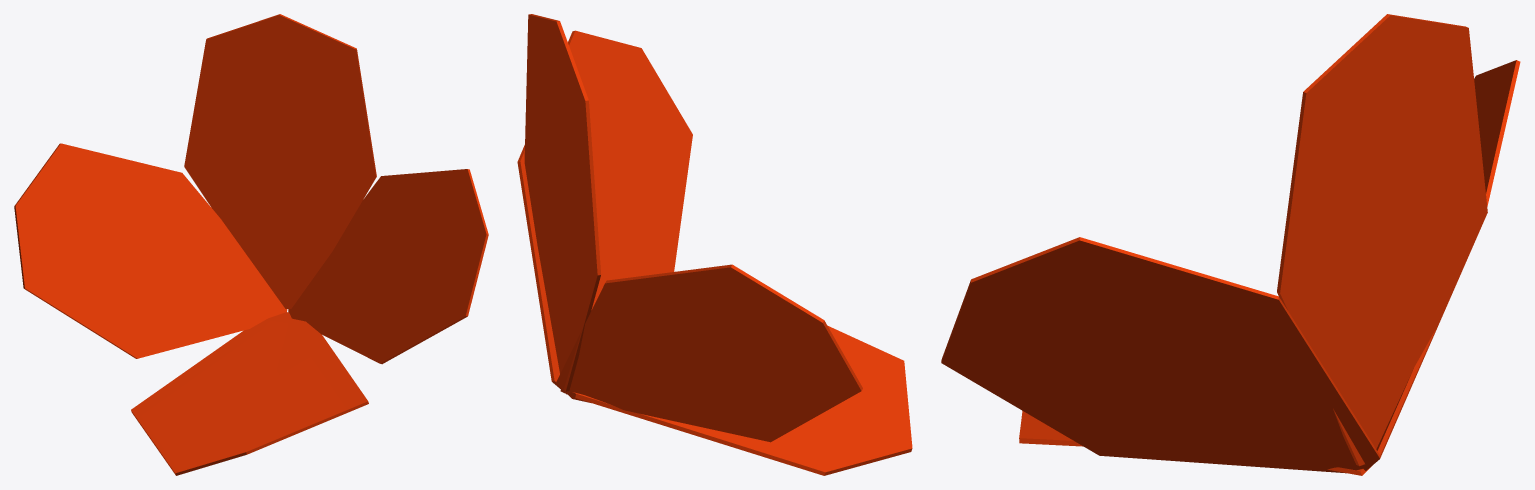
The model's file is littleflower.fbx.
The picture shows the model from 3 angles, left to right: view 1: azimuth 30°, elevation 25°; view 2: azimuth 150°, elevation 25°; view 3: azimuth 270°, elevation 25°; orthographic projection. The views are drawn at different scales.
Parts seen in each view (by area): view 1: littleflower1; view 2: littleflower1; view 3: littleflower1.
Boxes of the visible parts, left/top/right/bottom form: littleflower1: left=14, top=14, right=488, bottom=475; littleflower1: left=517, top=14, right=912, bottom=475; littleflower1: left=941, top=14, right=1520, bottom=475.
Size of the model in its own units: 16.25 by 16.29 by 15.78.
